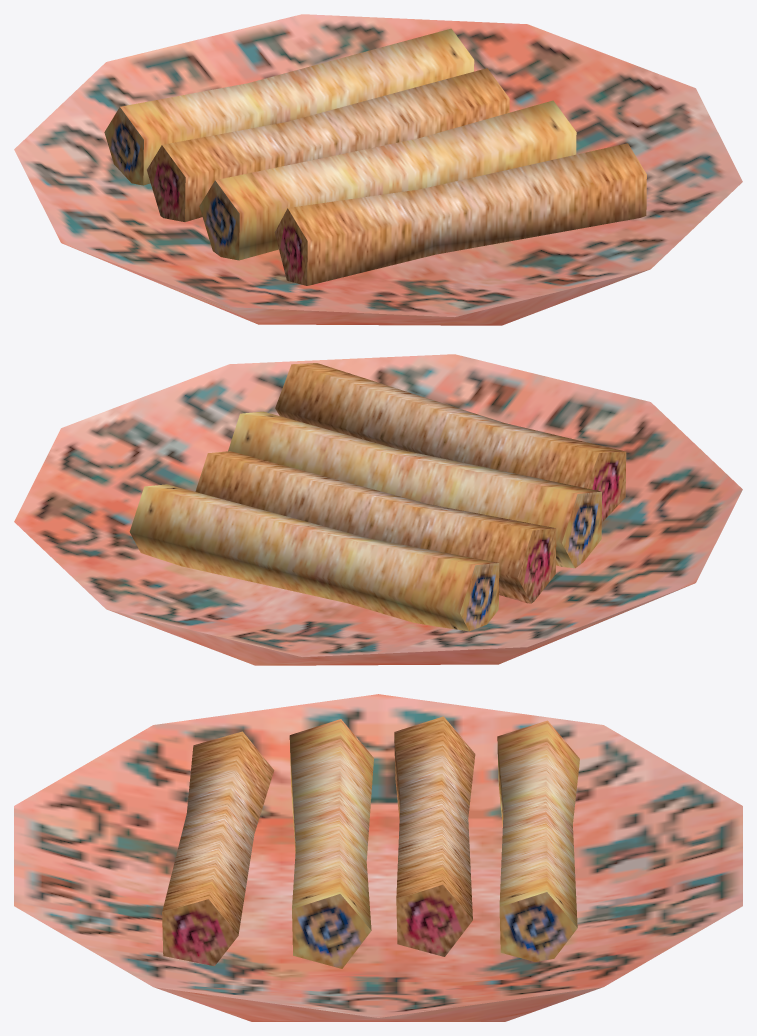
The model's file is edb_dish_crispic_l0.fbx.
The picture shows the model from 3 angles, top to bottom: view 1: azimuth 30°, elevation 25°; view 2: azimuth 150°, elevation 25°; view 3: azimuth 270°, elevation 25°; orthographic projection. The views are drawn at different scales.
Parts seen in each view (by area): view 1: mesh_node; view 2: mesh_node; view 3: mesh_node.
Part boxes in pixels (x1,y1,x2,y2): mesh_node: [14, 14, 742, 325]; mesh_node: [14, 354, 742, 665]; mesh_node: [14, 694, 742, 1021].
Bounding box in the file's own units: 0.4213 × 0.0719 × 0.4007.
Materials: 1 (1 with a texture image).
